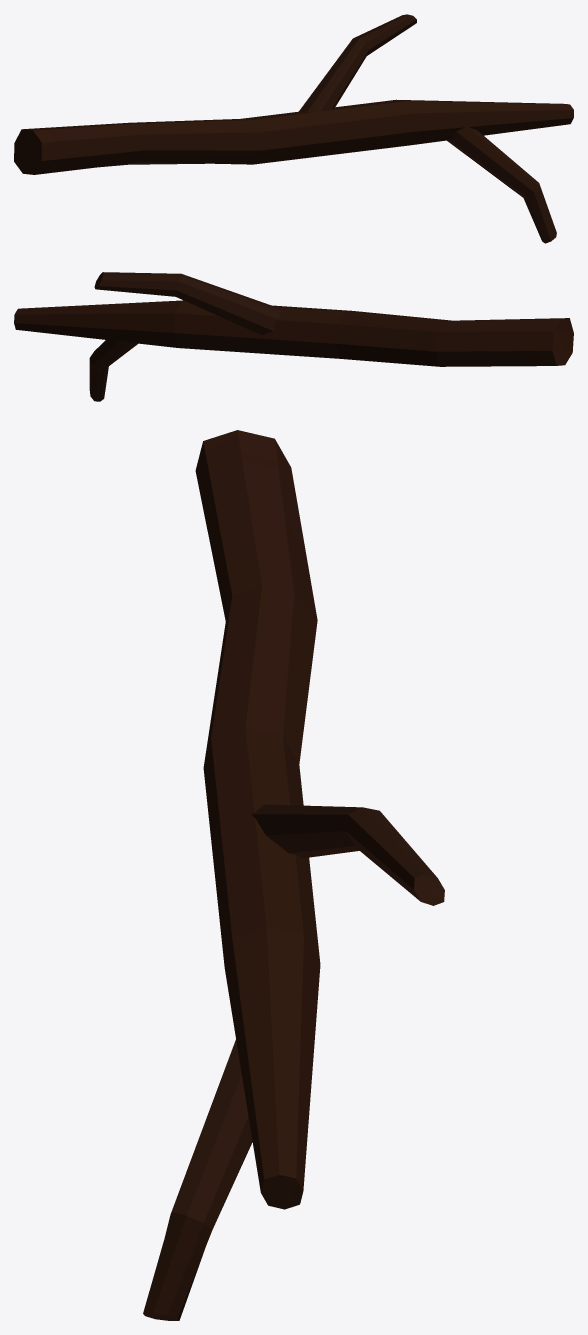
File: MOD STICK.fbx
3 views of the same model, one above another, from view 1: azimuth 30°, elevation 25°; view 2: azimuth 150°, elevation 25°; view 3: azimuth 270°, elevation 25° (orthographic). The views are drawn at different scales.
Visible parts, largest first — view 1: MOD STICK; view 2: MOD STICK; view 3: MOD STICK.
Boxes of the visible parts, bbox=[...] form: MOD STICK: bbox=[14, 14, 573, 243]; MOD STICK: bbox=[14, 272, 573, 401]; MOD STICK: bbox=[143, 430, 444, 1320].
Bounding box in the file's own units: 41.57 × 15.61 × 10.07.
